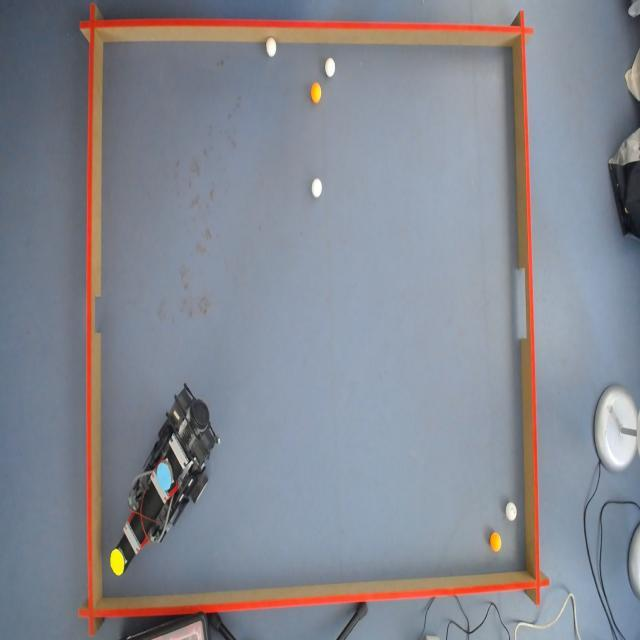orange: (310, 82, 323, 103), (491, 534, 504, 554)
robot: (109, 378, 217, 581)
robot-front: (110, 550, 126, 574)
robot-rear: (156, 460, 172, 491)
white: (323, 56, 335, 78), (266, 38, 278, 60), (506, 502, 518, 523), (311, 179, 322, 199)
